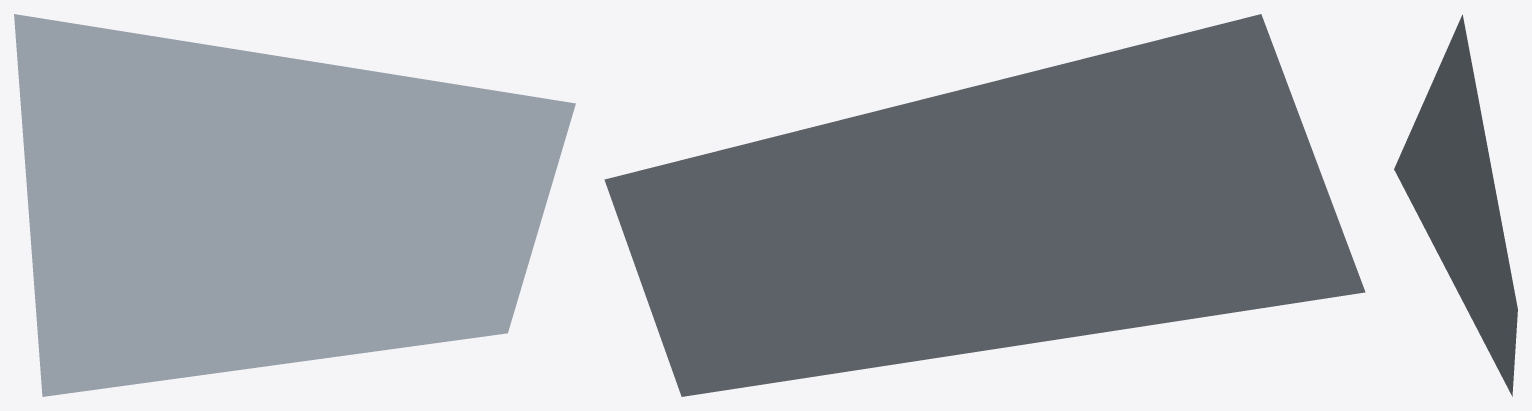
The model's file is calcaneofibular-ligament-r.glb.
The picture shows the model from 3 angles, left to right: view 1: azimuth 30°, elevation 25°; view 2: azimuth 150°, elevation 25°; view 3: azimuth 270°, elevation 25°; orthographic projection. The views are drawn at different scales.
Visible parts, largest first — view 1: Calcaneofibular ligament.r; view 2: Calcaneofibular ligament.r; view 3: Calcaneofibular ligament.r.
Part boxes in pixels (bbox=[...]): Calcaneofibular ligament.r: bbox=[14, 14, 575, 396]; Calcaneofibular ligament.r: bbox=[604, 14, 1365, 396]; Calcaneofibular ligament.r: bbox=[1394, 14, 1517, 396].
Size of the model in its own units: 0.0179 by 0.0127 by 0.00576.
